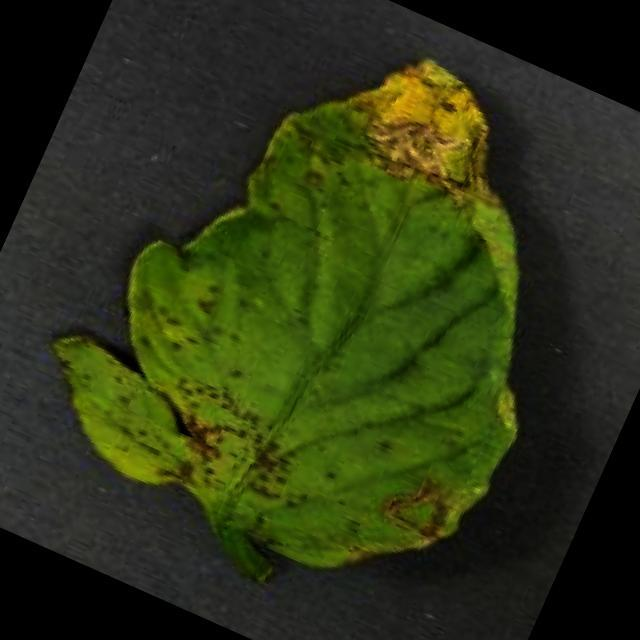Tomato bacterial spot leaf: (2, 0, 640, 629)
